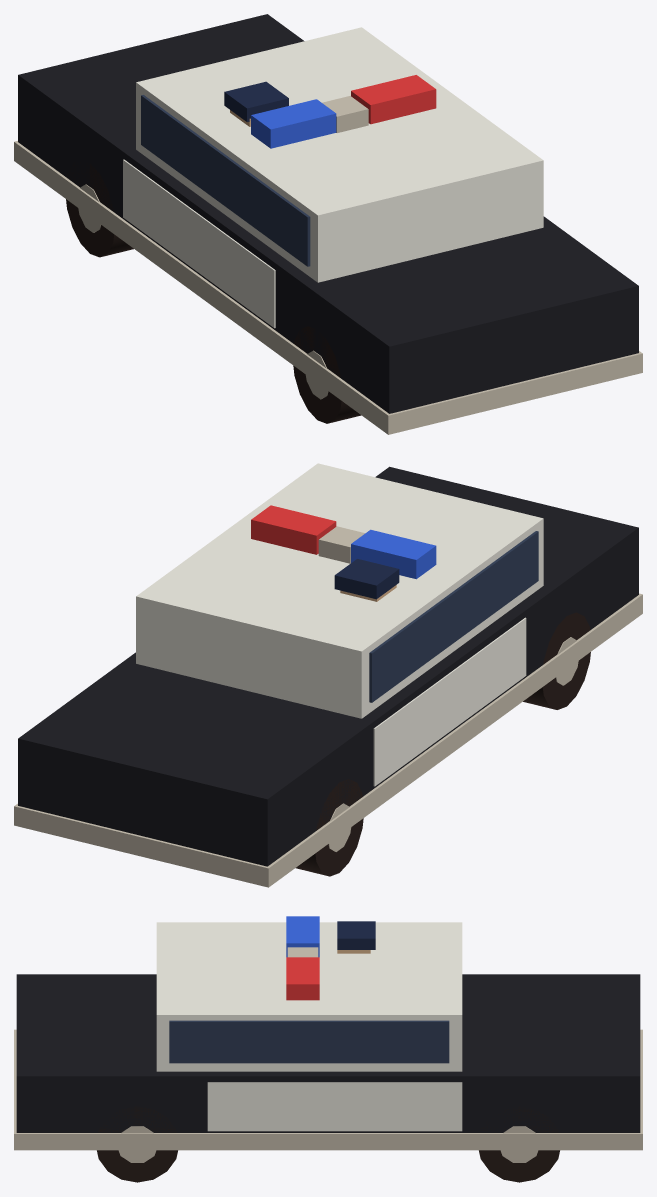
The model's file is police_car.glb.
3 renders of one model, top to bottom at view 1: azimuth 30°, elevation 25°; view 2: azimuth 150°, elevation 25°; view 3: azimuth 270°, elevation 25°, orthographic. The views are drawn at different scales.
Parts seen in each view (by area): view 1: Box1, Box3, Box5, Box2, Box4, Box7, Box6, Part2, Part4, Box11, Box8; view 2: Box1, Box3, Box5, Box2, Box4, Part2, Part4, Box6, Box7, Box11, Box8; view 3: Box1, Box3, Box2, Box4, Box5, Part1, Part3, Box6, Box11, Box7.
Boxes of the visible parts, x1=… form: Box1: x1=18, y1=14, x2=638, y2=413; Box3: x1=136, y1=27, x2=543, y2=282; Box5: x1=14, y1=141, x2=642, y2=434; Box2: x1=123, y1=159, x2=275, y2=328; Box4: x1=141, y1=95, x2=310, y2=266; Box7: x1=251, y1=99, x2=336, y2=148; Box6: x1=351, y1=75, x2=436, y2=124; Part2: x1=293, y1=326, x2=361, y2=423; Part4: x1=66, y1=163, x2=133, y2=257; Box11: x1=224, y1=81, x2=288, y2=121; Box8: x1=322, y1=96, x2=368, y2=132; Box1: x1=18, y1=466, x2=638, y2=866; Box3: x1=136, y1=463, x2=543, y2=718; Box5: x1=14, y1=593, x2=642, y2=887; Box2: x1=373, y1=617, x2=526, y2=786; Box4: x1=369, y1=531, x2=538, y2=702; Part2: x1=523, y1=612, x2=590, y2=709; Part4: x1=296, y1=779, x2=363, y2=876; Box6: x1=251, y1=505, x2=336, y2=554; Box7: x1=351, y1=529, x2=436, y2=579; Box11: x1=334, y1=559, x2=399, y2=599; Box8: x1=318, y1=526, x2=364, y2=563; Box1: x1=16, y1=974, x2=640, y2=1132; Box3: x1=156, y1=922, x2=462, y2=1071; Box2: x1=207, y1=1082, x2=462, y2=1131; Box4: x1=169, y1=1020, x2=449, y2=1063; Box5: x1=14, y1=1029, x2=642, y2=1150; Part1: x1=97, y1=1106, x2=177, y2=1182; Part3: x1=479, y1=1106, x2=559, y2=1182; Box6: x1=286, y1=957, x2=319, y2=1000; Box11: x1=337, y1=921, x2=375, y2=949; Box7: x1=286, y1=916, x2=319, y2=957.
Bounding box in the file's own units: 1.94 × 1.57 × 4.94.
